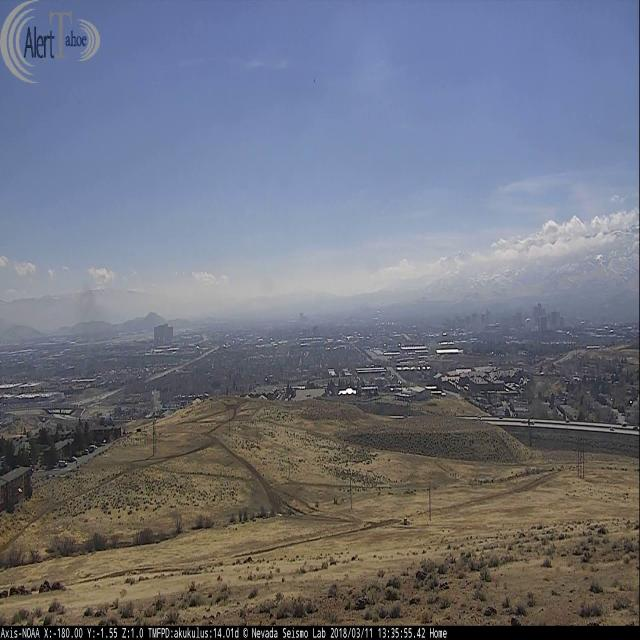smoke: (76, 284, 108, 379)
